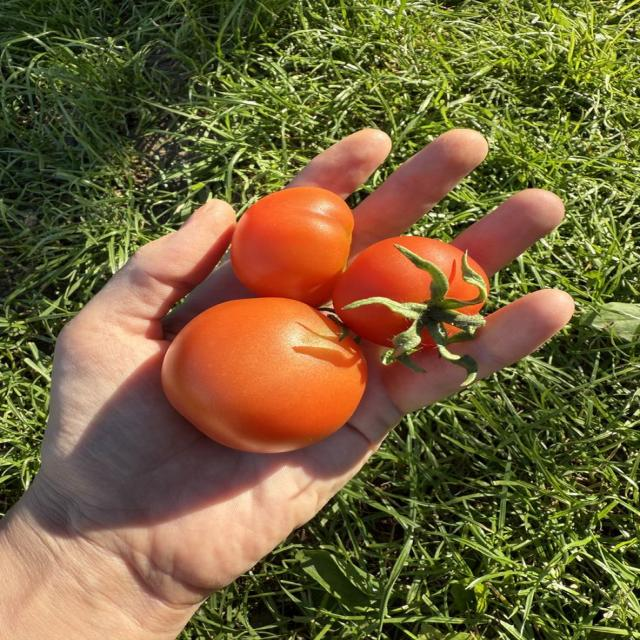tomato: (162, 298, 366, 452), (334, 237, 479, 347), (231, 187, 353, 306)
